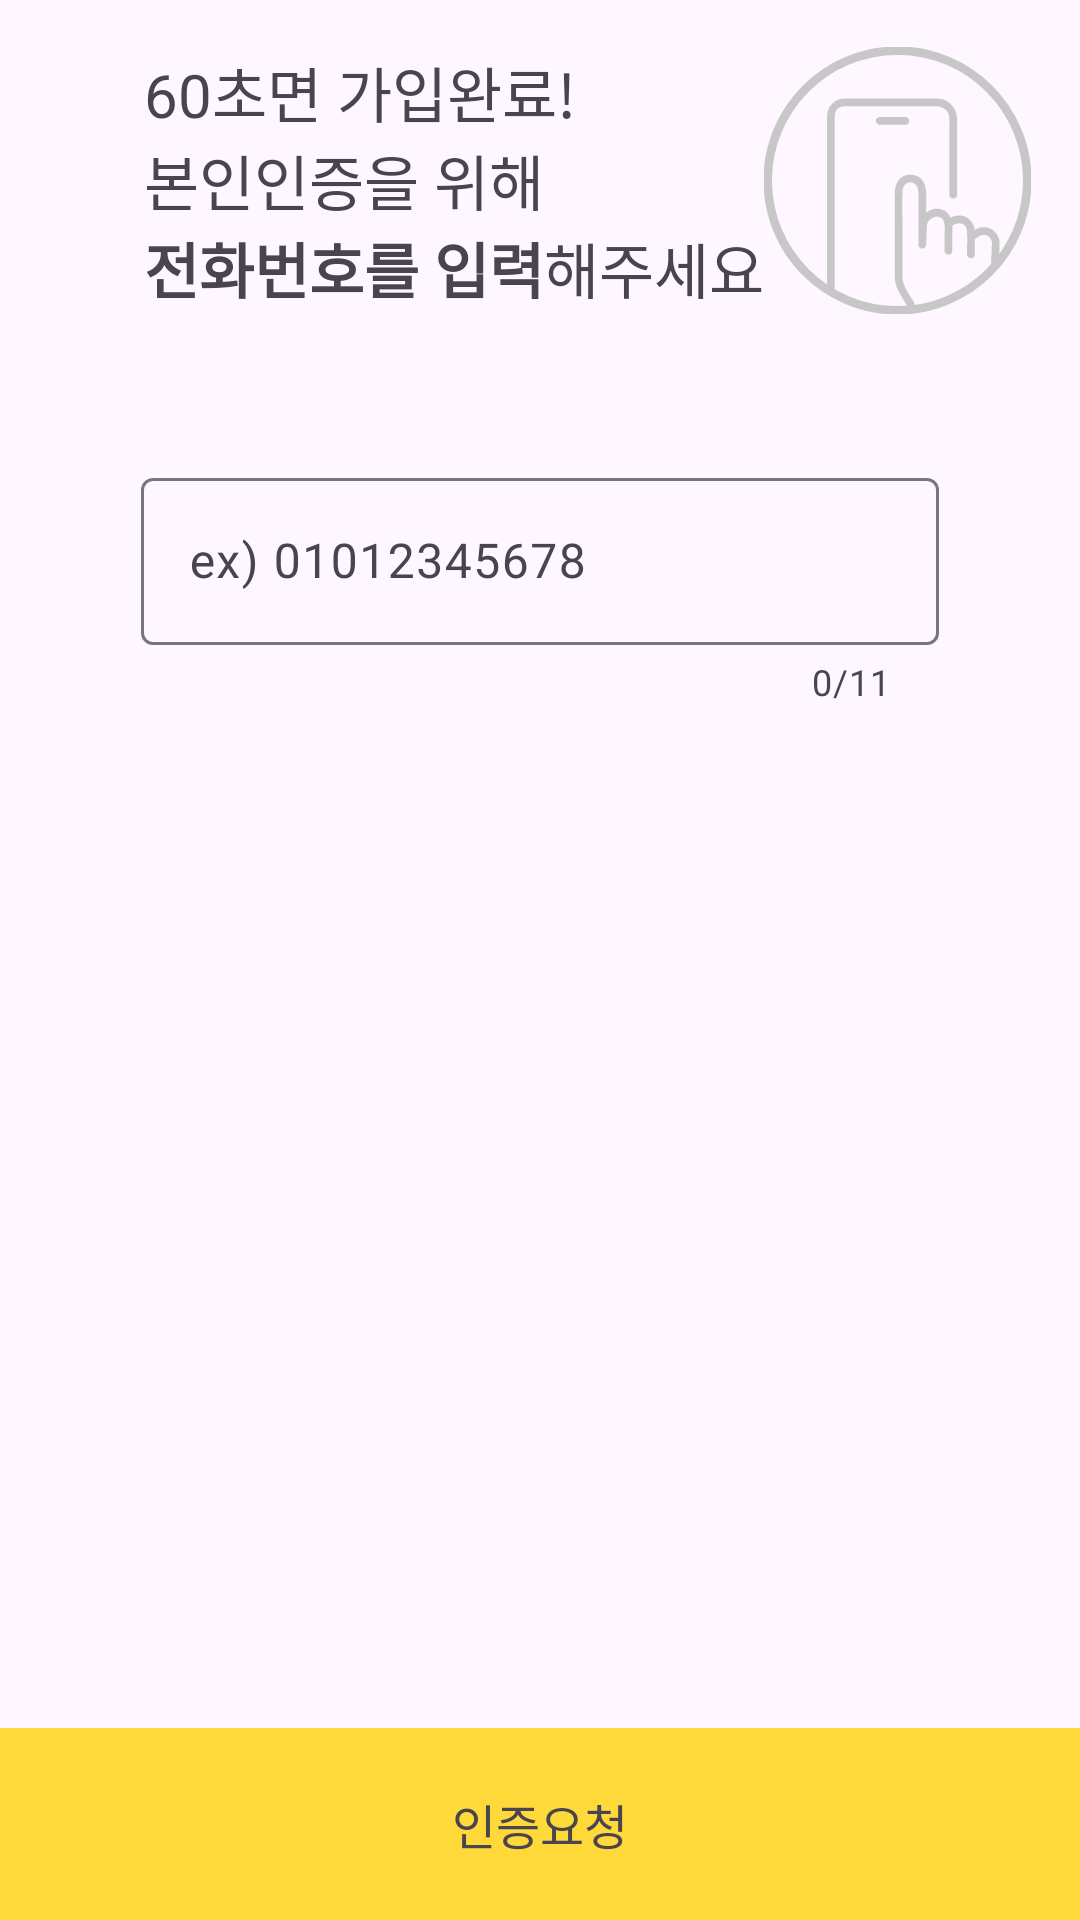

Point at icon controls on the screen. Image size 1080x1920, points as [x,y].
signup input phonenum: [897,180]
